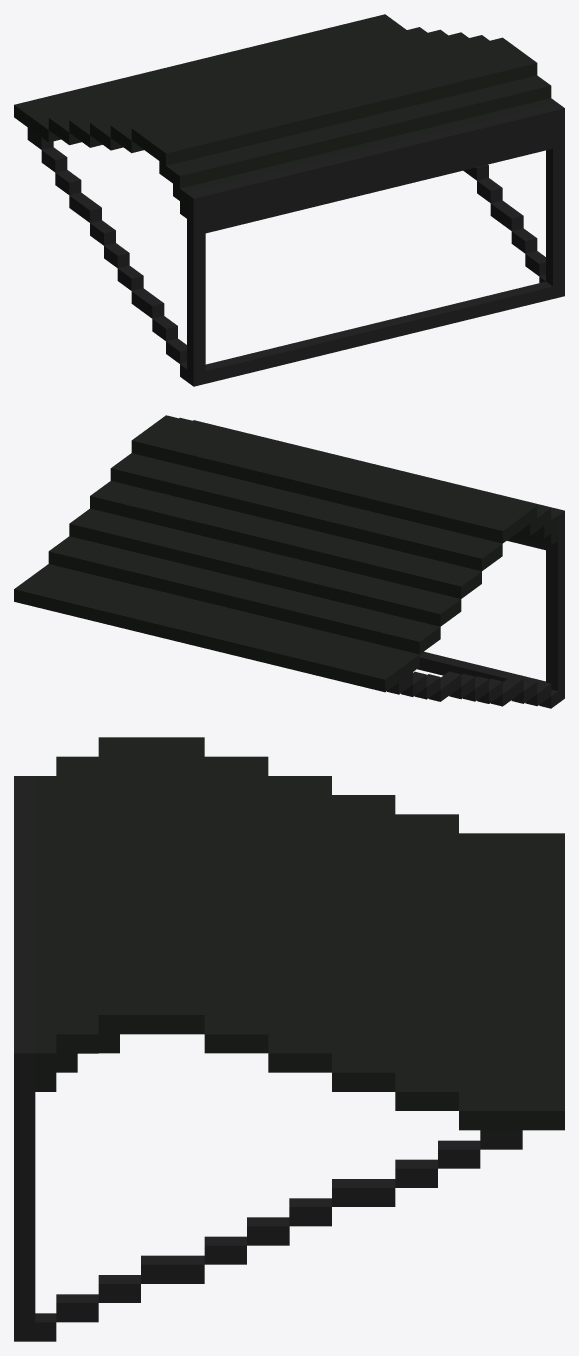
File: daszek_budynek_dodatek.dae
3 views of the same model, one above another, from view 1: azimuth 30°, elevation 25°; view 2: azimuth 150°, elevation 25°; view 3: azimuth 270°, elevation 25° (orthographic). The views are drawn at different scales.
Parts seen in each view (by area): view 1: Content; view 2: Content; view 3: Content.
Part boxes in pixels (left/top/right/bottom): Content: left=14, top=14, right=564, bottom=386; Content: left=14, top=415, right=564, bottom=708; Content: left=14, top=737, right=564, bottom=1341.
Size of the model in its own units: 31 by 17 by 26.
Materials: 1 (1 with a texture image).
